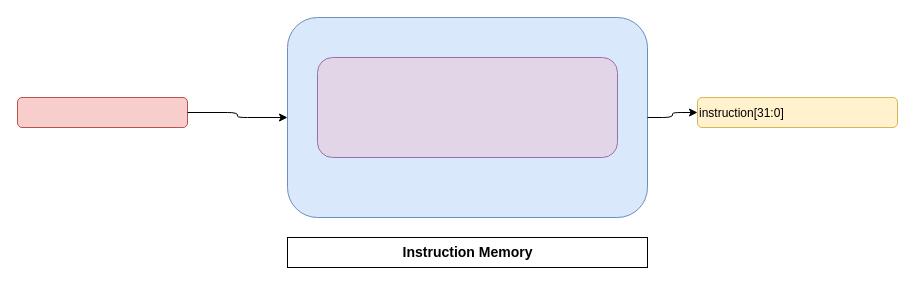
This 915x285 diagram has some shape labels left out. The centre of each missing label's shape, as x and y in pixels:
"Instruction Memory Array 32-bit Words Index = PCF[31:2]" belongs at point (467, 107).
"PCF[63:0]" belongs at point (102, 112).
